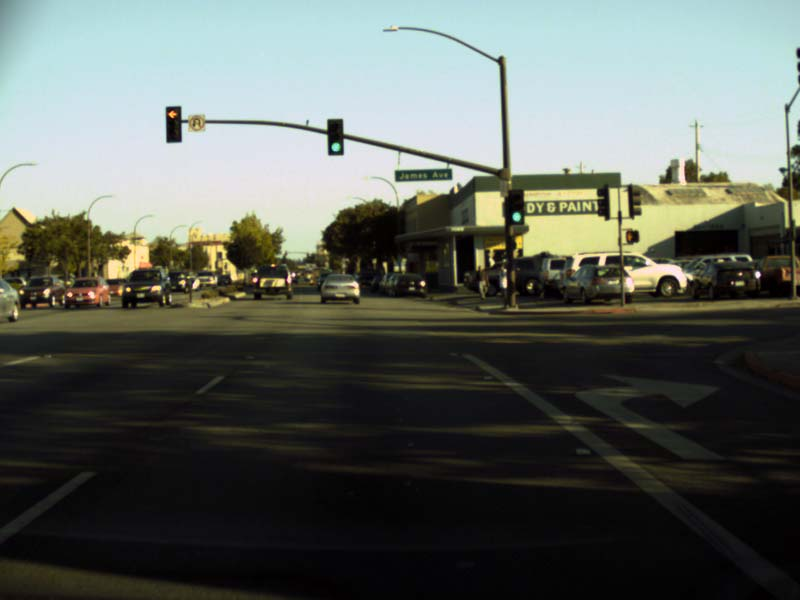Green: (327, 120, 343, 155), (509, 190, 523, 223)
Red: (165, 105, 181, 142)
